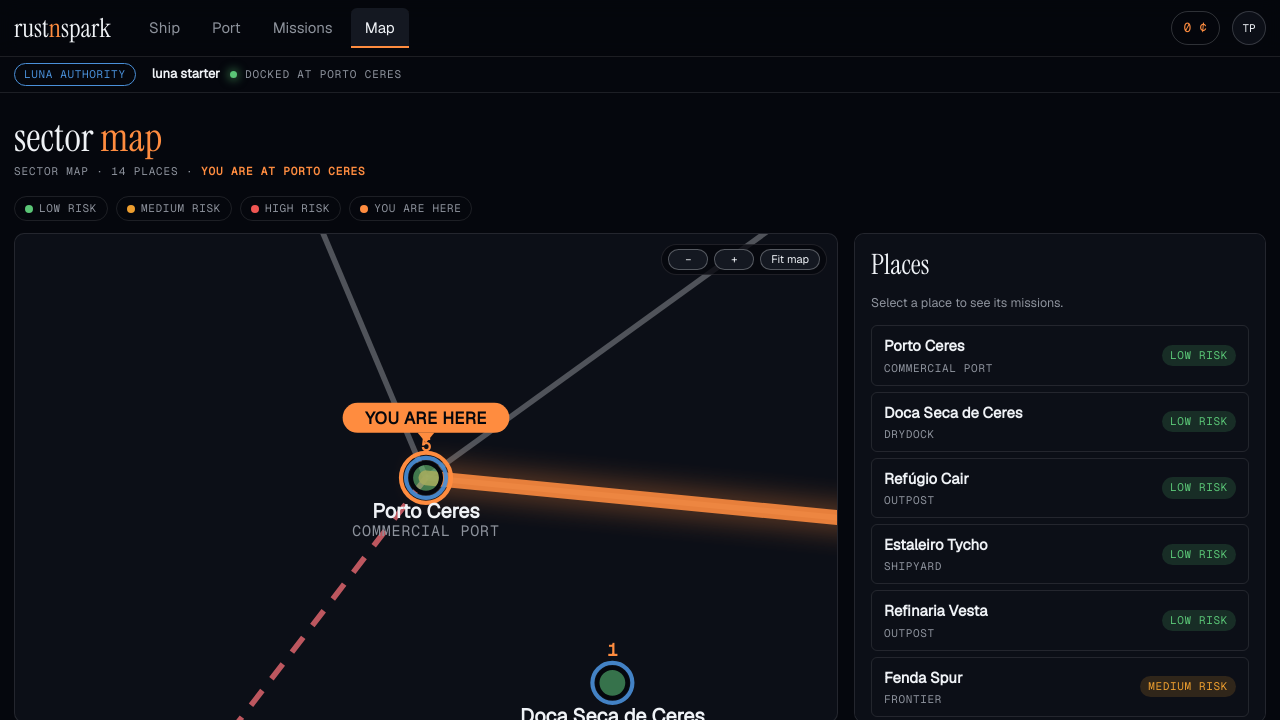
Test case: map (S10.5) › renders all 12 nodes, routes and the risk legend
Click the button "Fit map" at coordinates (790, 260), box [760,249,820,270]
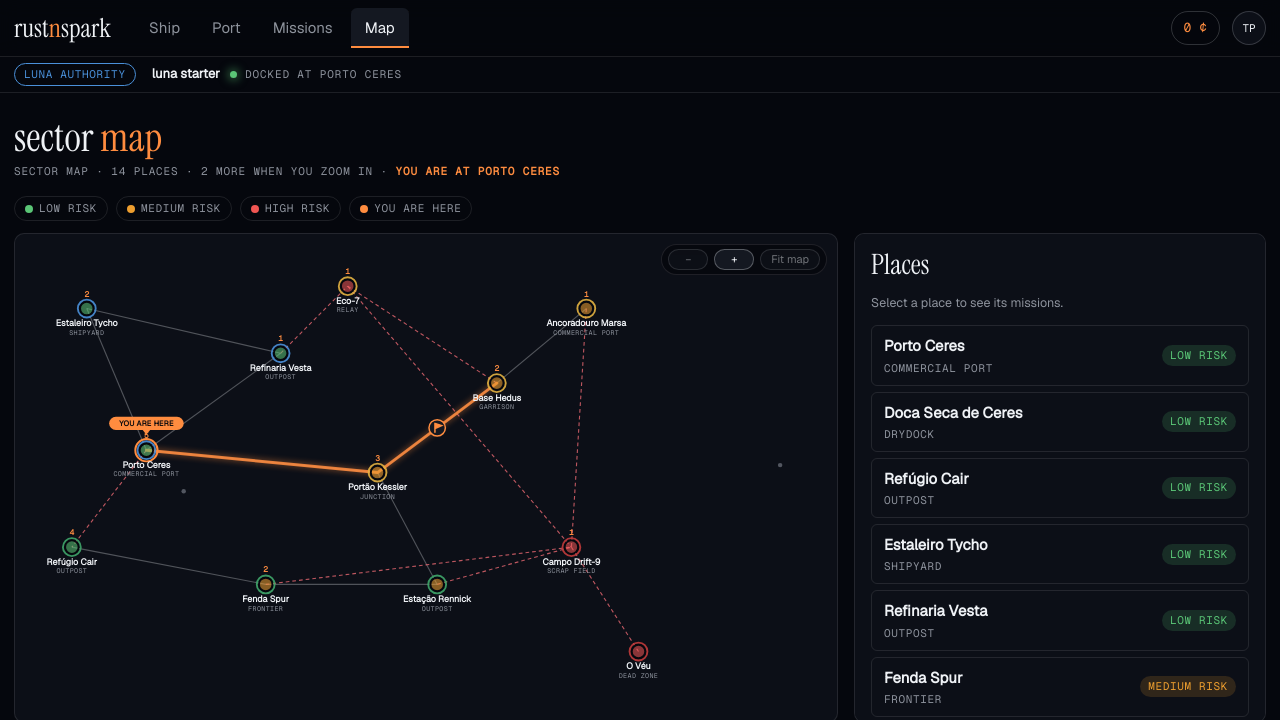
Expected: the text "Low risk" is shown, [14,196,108,221]
Now the button "Fit map" is disabled, box [760,249,820,270]
